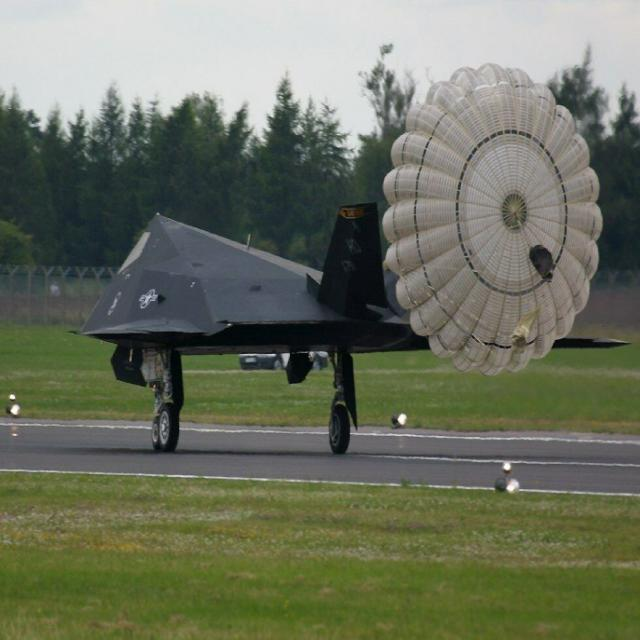MIL_Plane: (66, 202, 632, 452)
